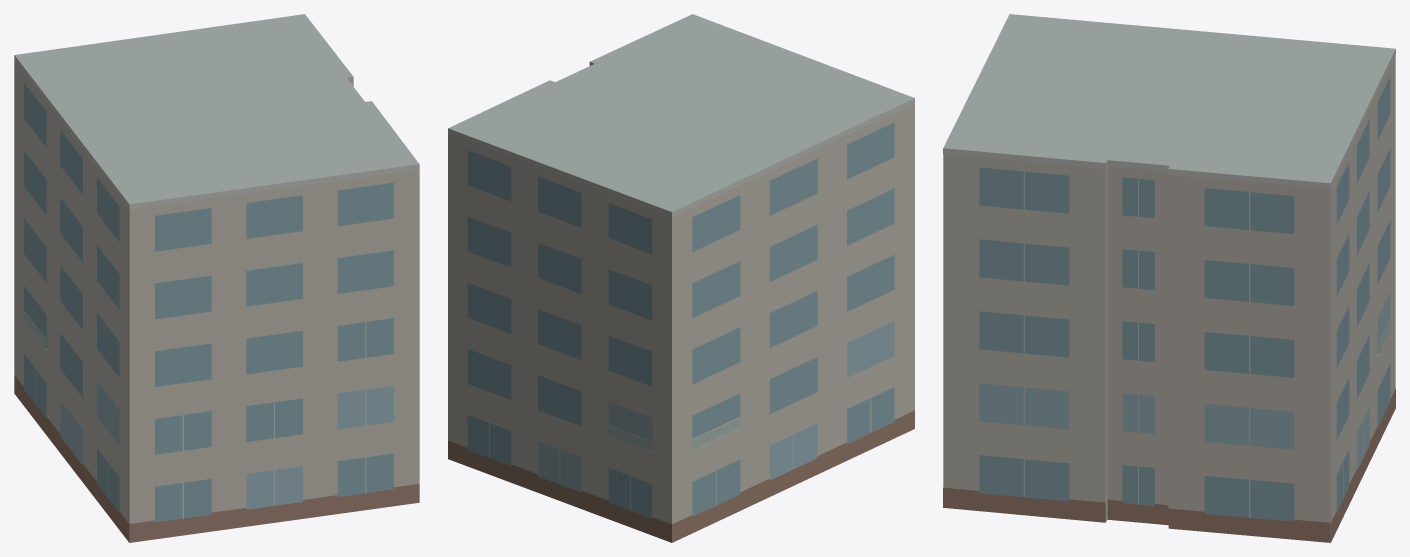
The model's file is survey-upis-32918242.glb.
3 views of the same model, side by side, from view 1: azimuth 30°, elevation 25°; view 2: azimuth 150°, elevation 25°; view 3: azimuth 270°, elevation 25° (orthographic). The views are drawn at different scales.
Visible parts, largest first — view 1: survey-upis-32918242.tmp; view 2: survey-upis-32918242.tmp; view 3: survey-upis-32918242.tmp.
Part boxes in pixels (box(x1,y1,x2,y2)): survey-upis-32918242.tmp: box(14, 14, 419, 542); survey-upis-32918242.tmp: box(448, 14, 914, 542); survey-upis-32918242.tmp: box(943, 14, 1395, 542).
Size of the model in its own units: 15.56 by 15.4 by 17.58.
